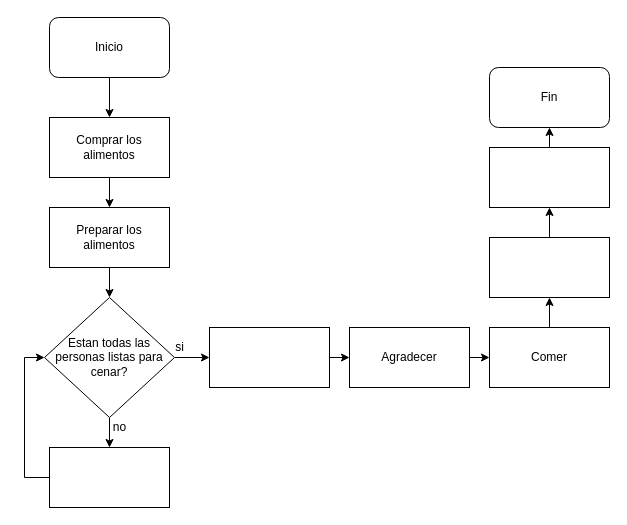
Image size: 627x525. Some labels were removed from this diagram. Here are the shapes that lost their labels. From the top down, the box of each, then its label:
(488, 146, 610, 208): Lavar Platos
(488, 236, 610, 298): Recoger Platos
(208, 326, 330, 388): Servir los alimentos
(48, 446, 170, 508): Notificar a las personas que la cena esta lista
